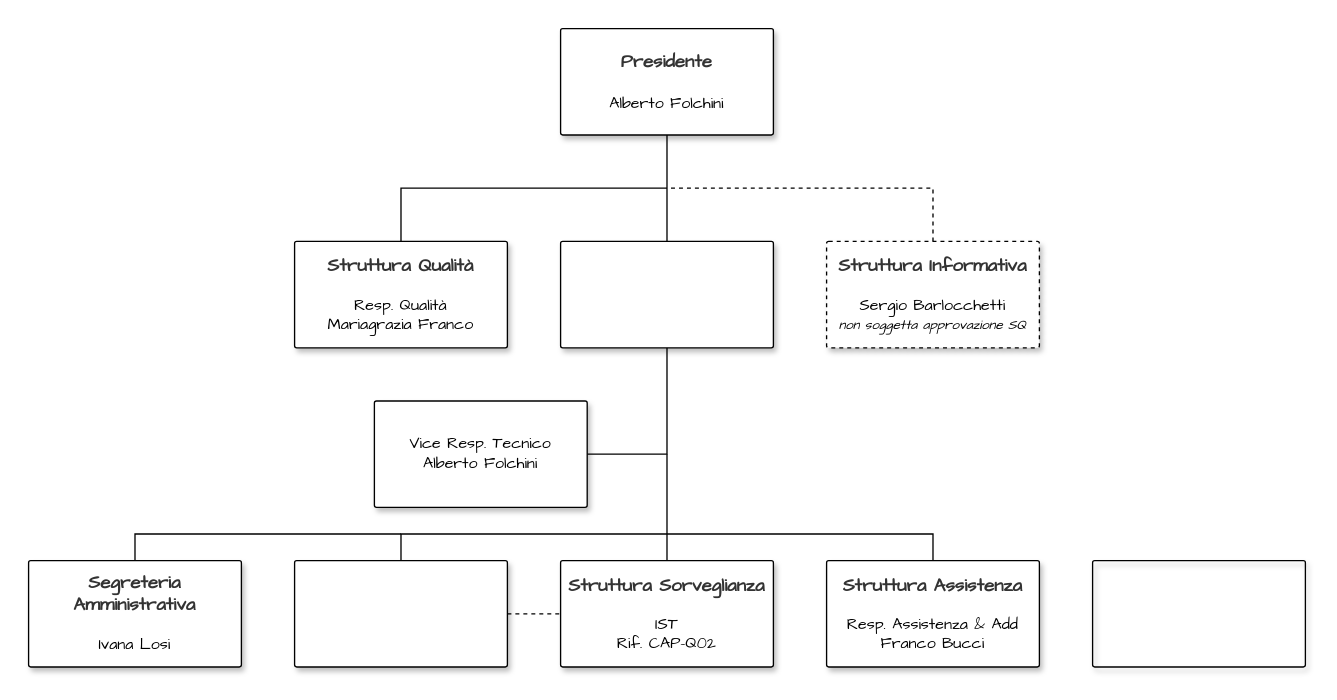
Image size: 1337x700. Some labels were removed from this diagram. Here are the shapes that lost their labels. From the top down, the centre of each, then its label:
point 667,296: Struttura Tecnica Resp. Tecnico Gianni Maffi
point 401,615: Ufficio Tecnico Alberto Folchini Franco Bucci
